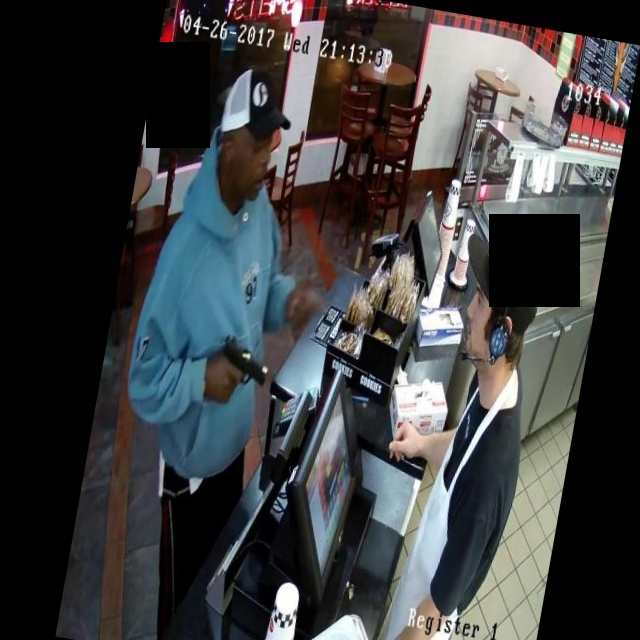gun: (207, 324, 282, 401)
